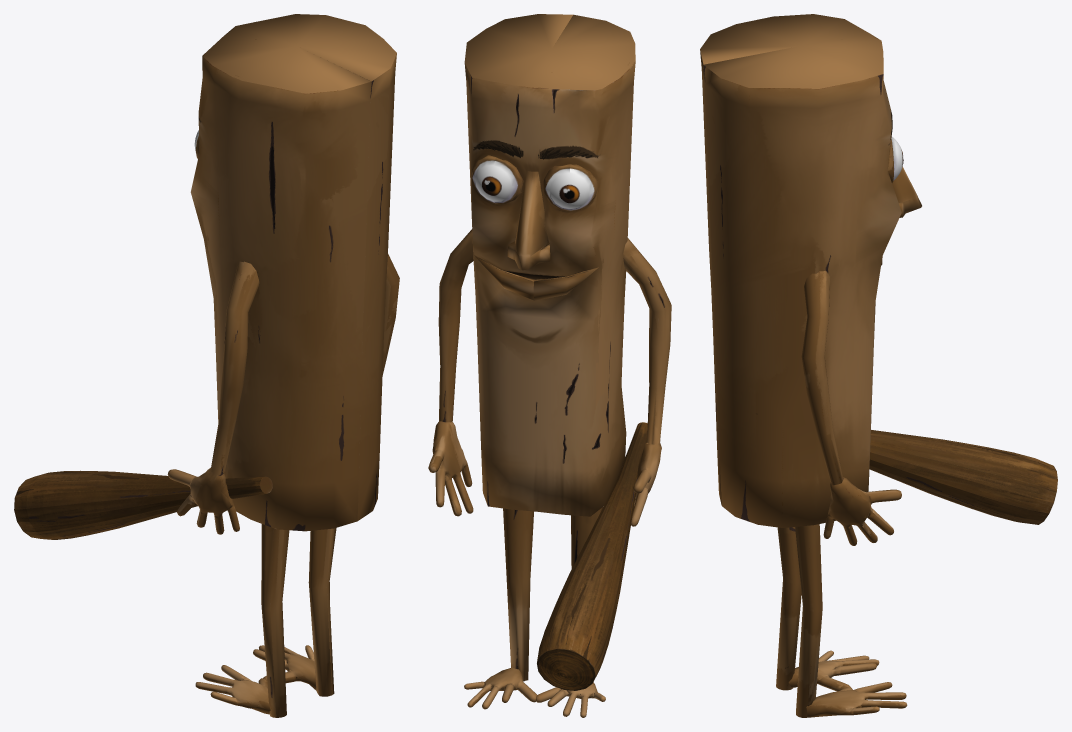
File: tungtung.glb
3 renders of one model, left to right at view 1: azimuth 30°, elevation 25°; view 2: azimuth 150°, elevation 25°; view 3: azimuth 270°, elevation 25°, orthographic. The views are drawn at different scales.
Visible parts, largest first — view 1: TUNG.002, Cylinder_002.002; view 2: TUNG.002, Cylinder_002.002; view 3: TUNG.002, Cylinder_002.002.
Boxes of the visible parts, left/top/right/bottom form: TUNG.002: left=167, top=14, right=399, bottom=717; Cylinder_002.002: left=14, top=470, right=272, bottom=539; TUNG.002: left=428, top=14, right=671, bottom=717; Cylinder_002.002: left=537, top=422, right=647, bottom=690; TUNG.002: left=700, top=14, right=921, bottom=717; Cylinder_002.002: left=869, top=430, right=1057, bottom=524.
Size of the model in its own units: 4.71 by 10.91 by 5.41.
Materials: 2 (2 with a texture image).
